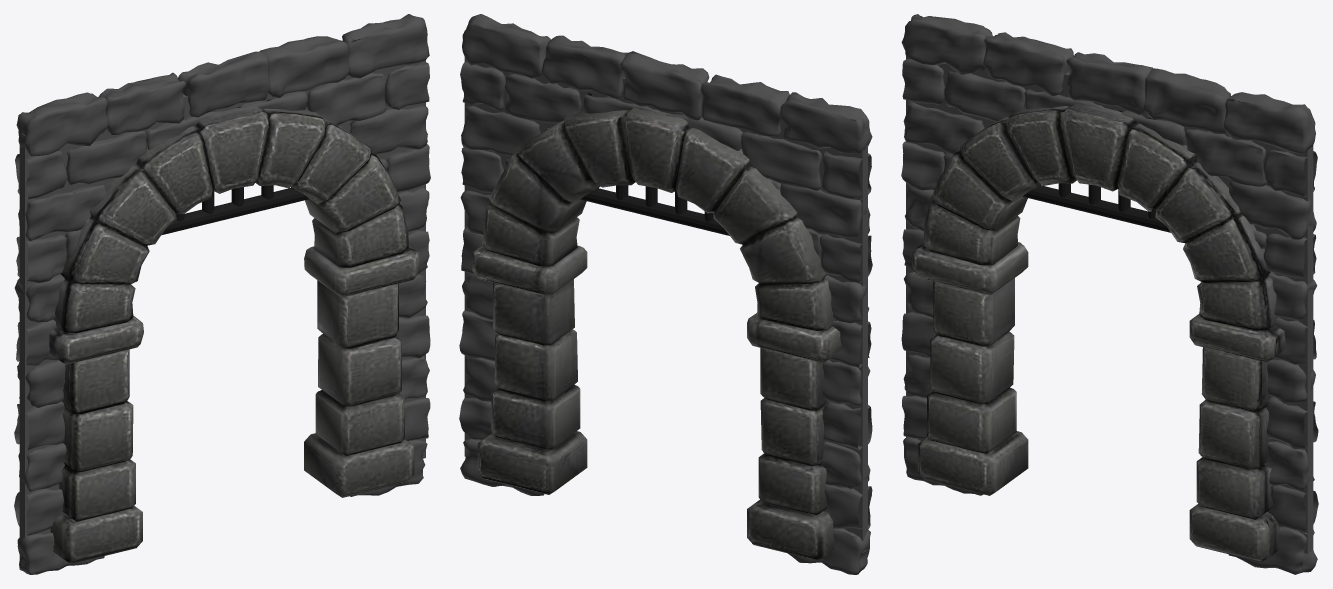
The model's file is PrisonArch_wBars.fbx.
3 renders of one model, left to right at view 1: azimuth 30°, elevation 25°; view 2: azimuth 150°, elevation 25°; view 3: azimuth 330°, elevation 25°, orthographic.
Parts seen in each view (by area): view 1: Archway_Gated; view 2: Archway_Gated; view 3: Archway_Gated.
Boxes of the visible parts, left/top/right/bottom form: Archway_Gated: left=14, top=14, right=430, bottom=574; Archway_Gated: left=459, top=14, right=872, bottom=574; Archway_Gated: left=901, top=14, right=1318, bottom=574.
Bounding box in the file's own units: 304 × 335 × 49.25.
